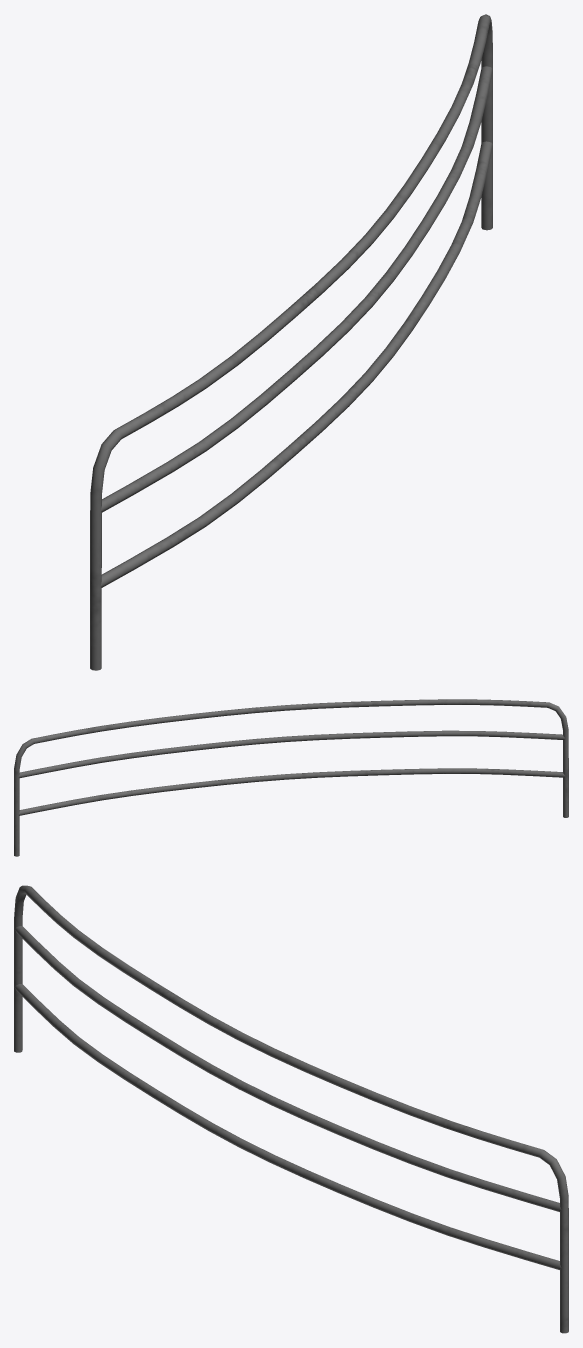
The model's file is CorrimaoGrande.FBX.
The picture shows the model from 3 angles, top to bottom: view 1: azimuth 30°, elevation 25°; view 2: azimuth 150°, elevation 25°; view 3: azimuth 270°, elevation 25°; orthographic projection. The views are drawn at different scales.
Parts seen in each view (by area): view 1: CorrimaoGrande; view 2: CorrimaoGrande; view 3: CorrimaoGrande.
Part boxes in pixels (x1=…): CorrimaoGrande: x1=90, y1=14, x2=492, y2=670; CorrimaoGrande: x1=14, y1=699, x2=568, y2=856; CorrimaoGrande: x1=14, y1=885, x2=568, y2=1333.
Bounding box in the file's own units: 368 × 106 × 303.
